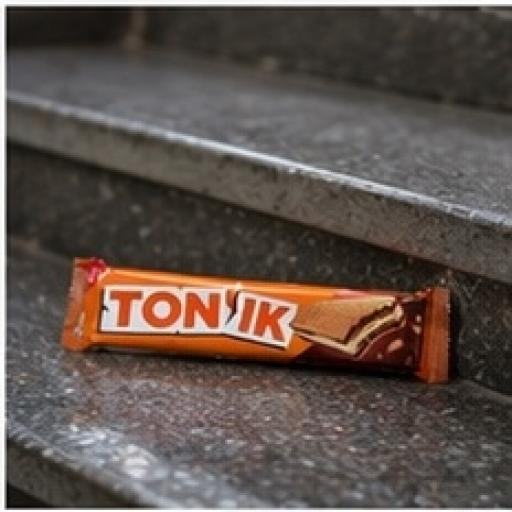tonik: (78, 180, 497, 441)
